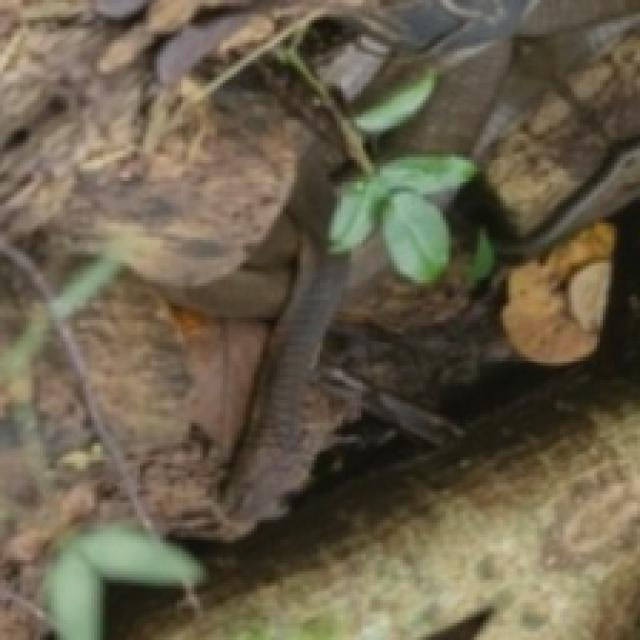king cobra: (222, 0, 526, 523)
